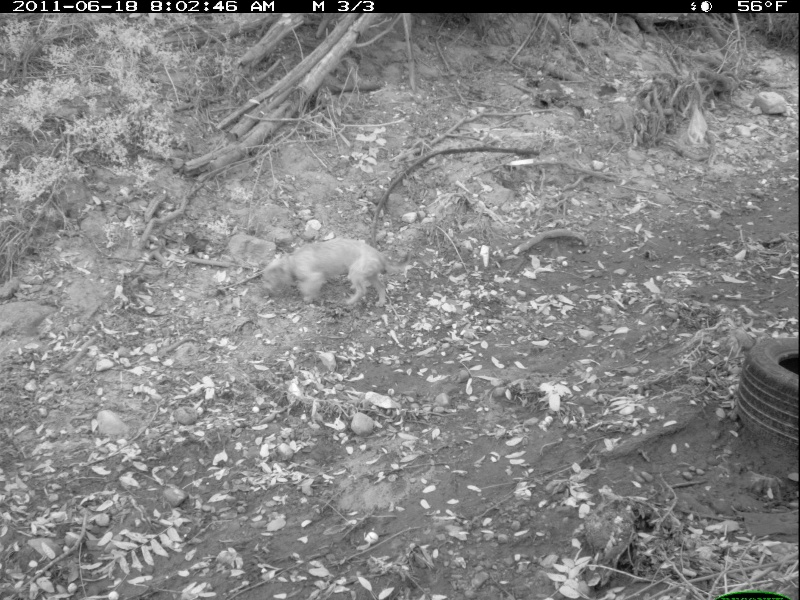dog: (254, 234, 415, 308)
